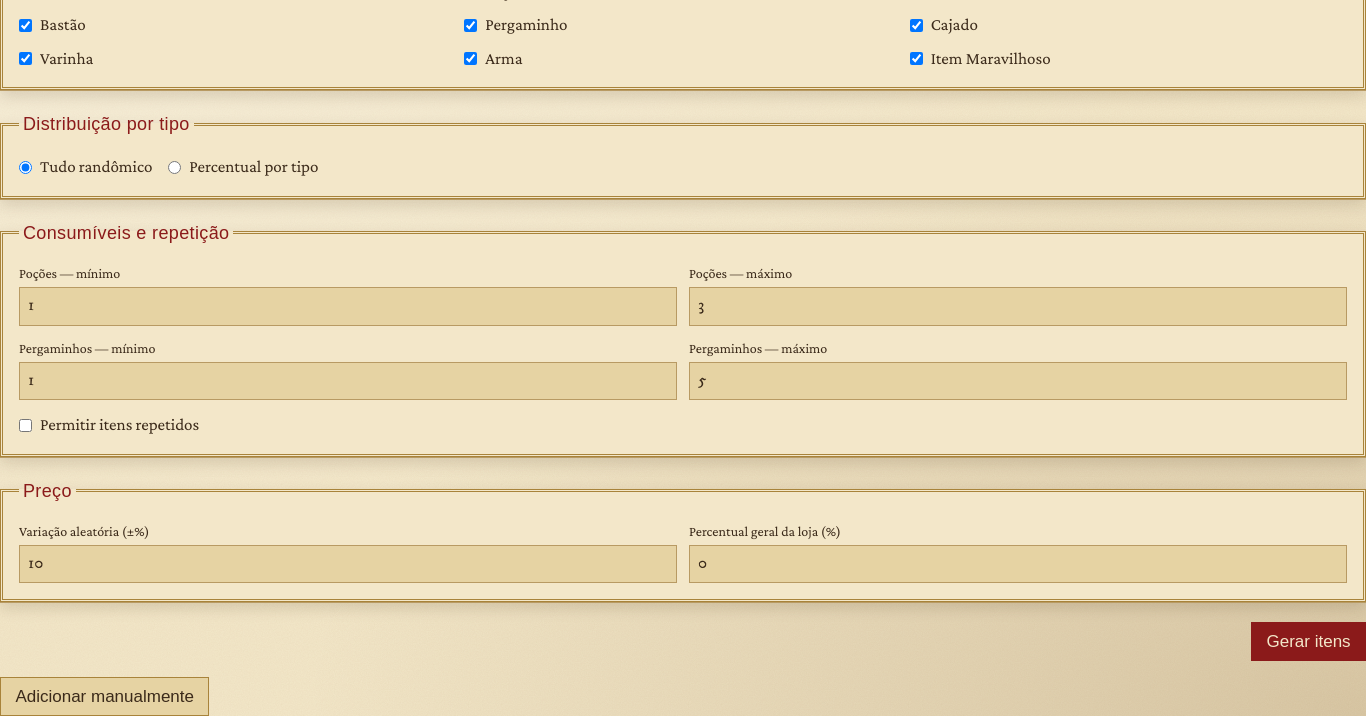
ItemsPanel › gera itens, mostra a lista e guarda a configuração
This screenshot has width=1366, height=716.
(page scrolled)
Click the button "Gerar itens" at [1309, 642], box x1=1251 y1=622 x2=1365 y2=661
(page scrolled)
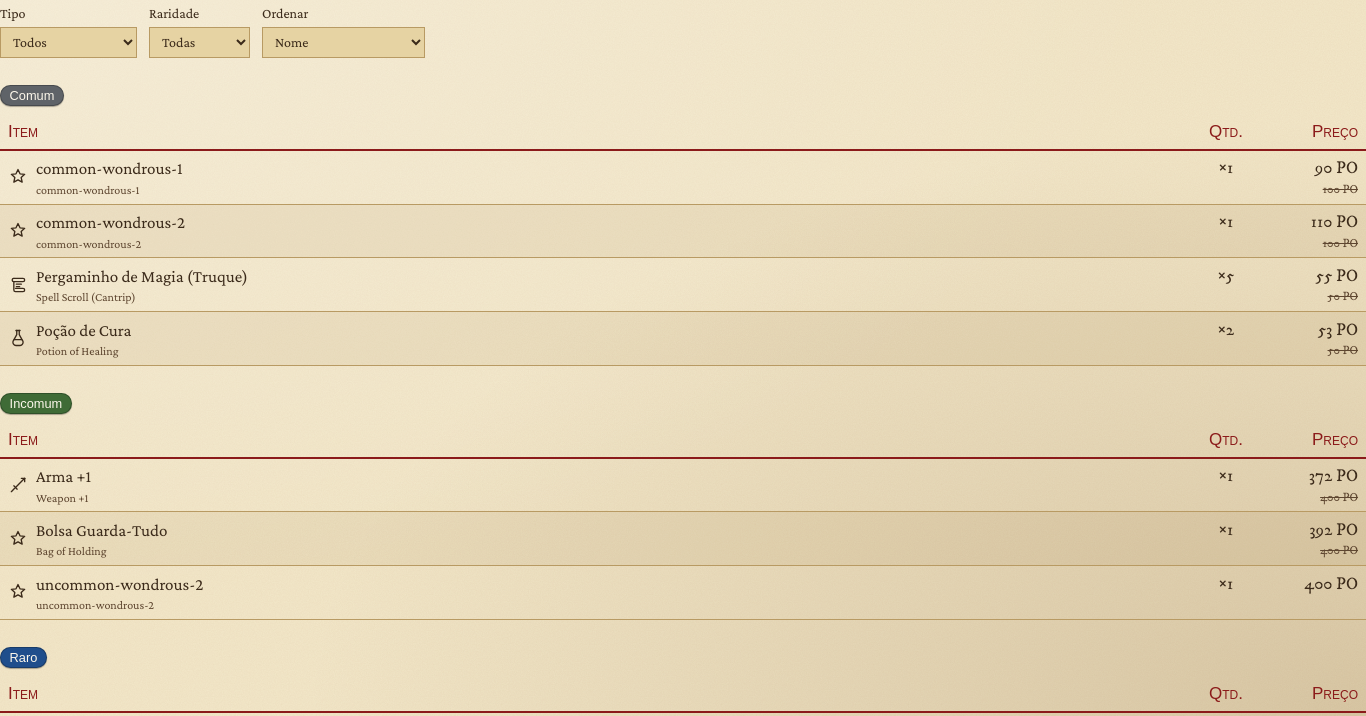
Now the element "Comum" is shown, box x1=0 y1=82 x2=1365 y2=366
